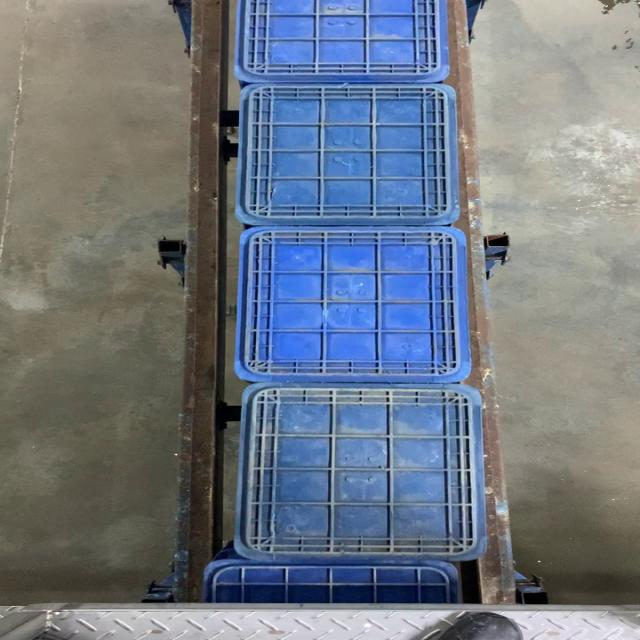Box: (234, 386, 488, 560), (232, 225, 471, 385), (235, 84, 461, 224)
